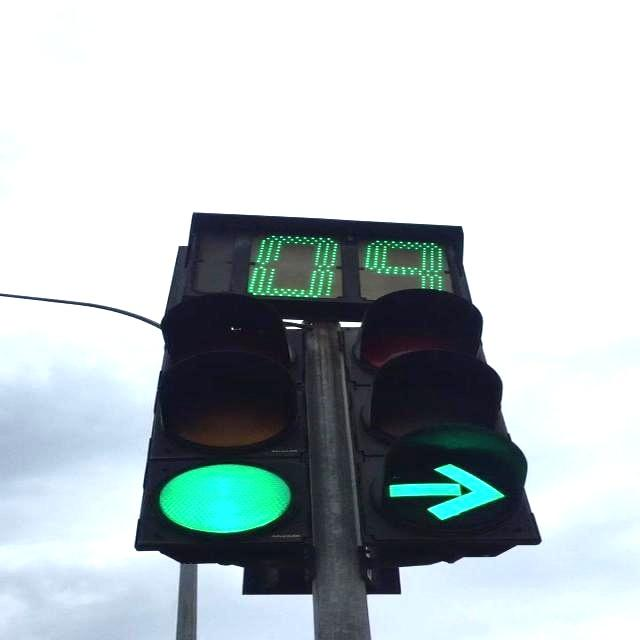Green: (338, 289, 542, 551), (132, 292, 306, 550)
